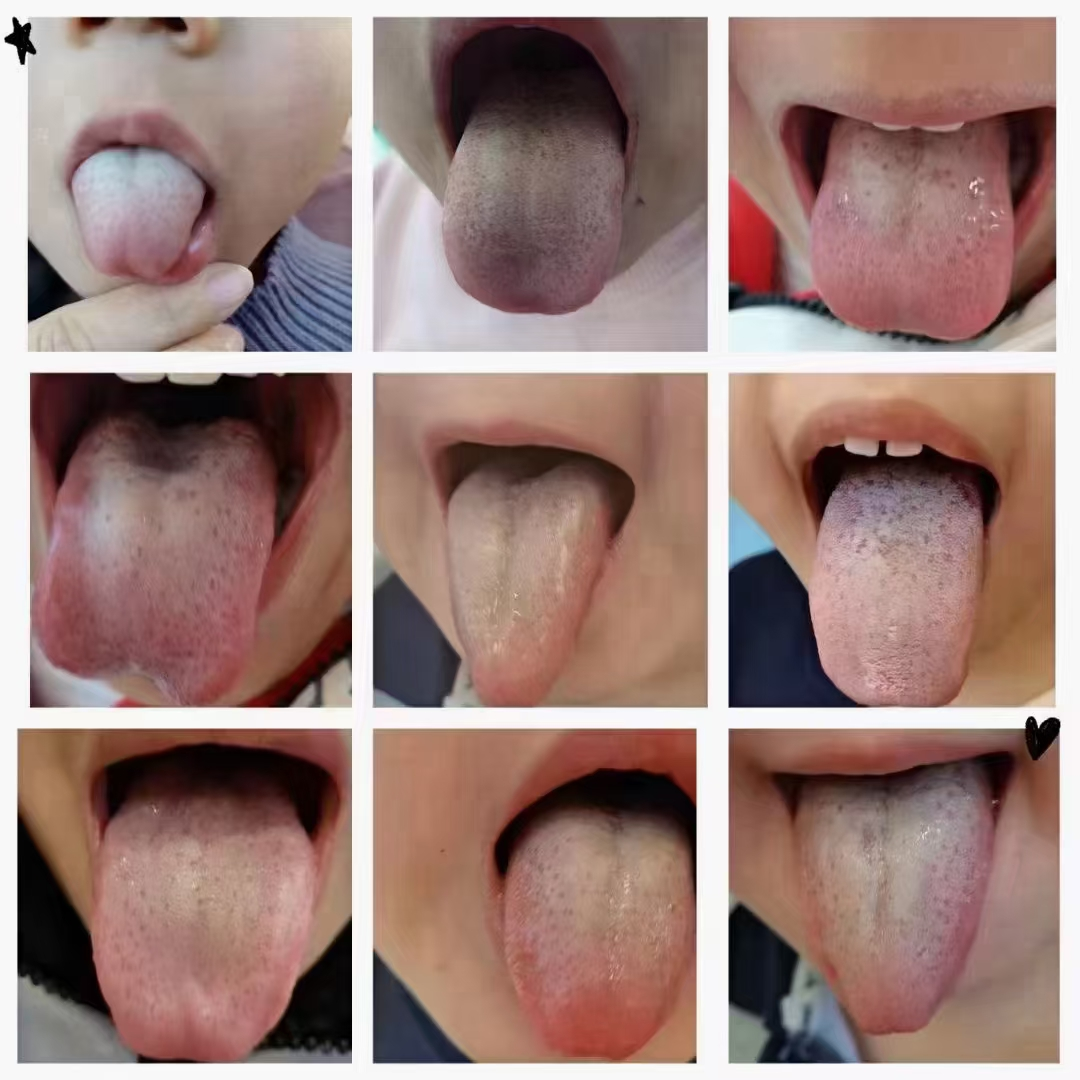baitaishe: (31, 411, 275, 707), (91, 787, 315, 1063), (795, 761, 995, 1035), (505, 807, 696, 1060), (811, 121, 1014, 341), (808, 470, 985, 708), (447, 463, 612, 707), (72, 147, 205, 277)
heitaishe: (444, 93, 624, 315)
hongshe: (31, 411, 275, 707)
